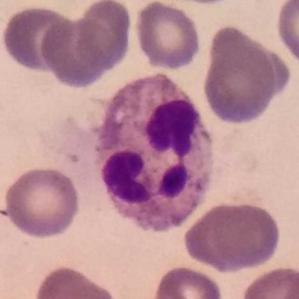Neutrophil: (89, 66, 222, 243)
RBC: (199, 24, 289, 126), (187, 199, 283, 272), (1, 164, 83, 240), (38, 13, 118, 90), (0, 2, 77, 74), (132, 0, 204, 72), (71, 0, 134, 74), (32, 263, 121, 299), (151, 263, 226, 299), (238, 264, 299, 299), (274, 0, 298, 71)
